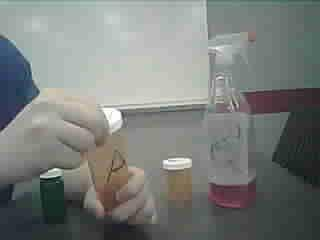Bottle A: (77, 102, 141, 208)
Bottle B: (163, 153, 194, 207)
Bottle C: (37, 167, 69, 227)
hazard: (200, 30, 276, 215)
